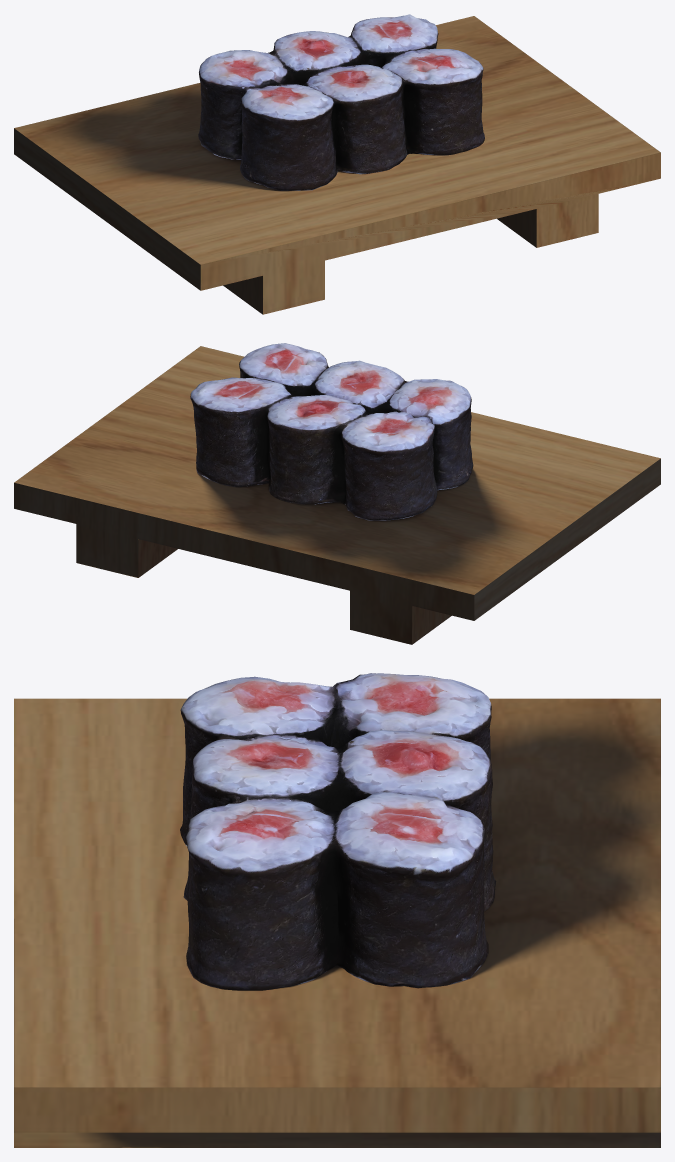
Rendered from sushi_tekka.glb.
3 views of the same model, one above another, from view 1: azimuth 30°, elevation 25°; view 2: azimuth 150°, elevation 25°; view 3: azimuth 270°, elevation 25° (orthographic). The views are drawn at different scales.
Parts seen in each view (by area): view 1: geta.vox, tekka; view 2: geta.vox, tekka; view 3: geta.vox, tekka.
Part boxes in pixels (x1,y1,x2,y2): geta.vox: (14,16,660,314); tekka: (198,14,484,190); geta.vox: (14,346,660,644); tekka: (190,343,473,520); geta.vox: (14,698,660,1147); tekka: (180,673,496,990).
Size of the model in its own units: 0.807 by 0.2461 by 0.5671.
2 materials, 2 textured.
